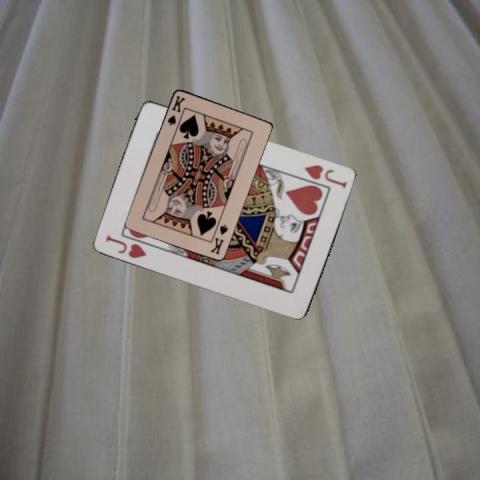Jh: (301, 162, 349, 190), (103, 231, 148, 260)
Ks: (164, 92, 187, 126), (208, 222, 229, 256)
